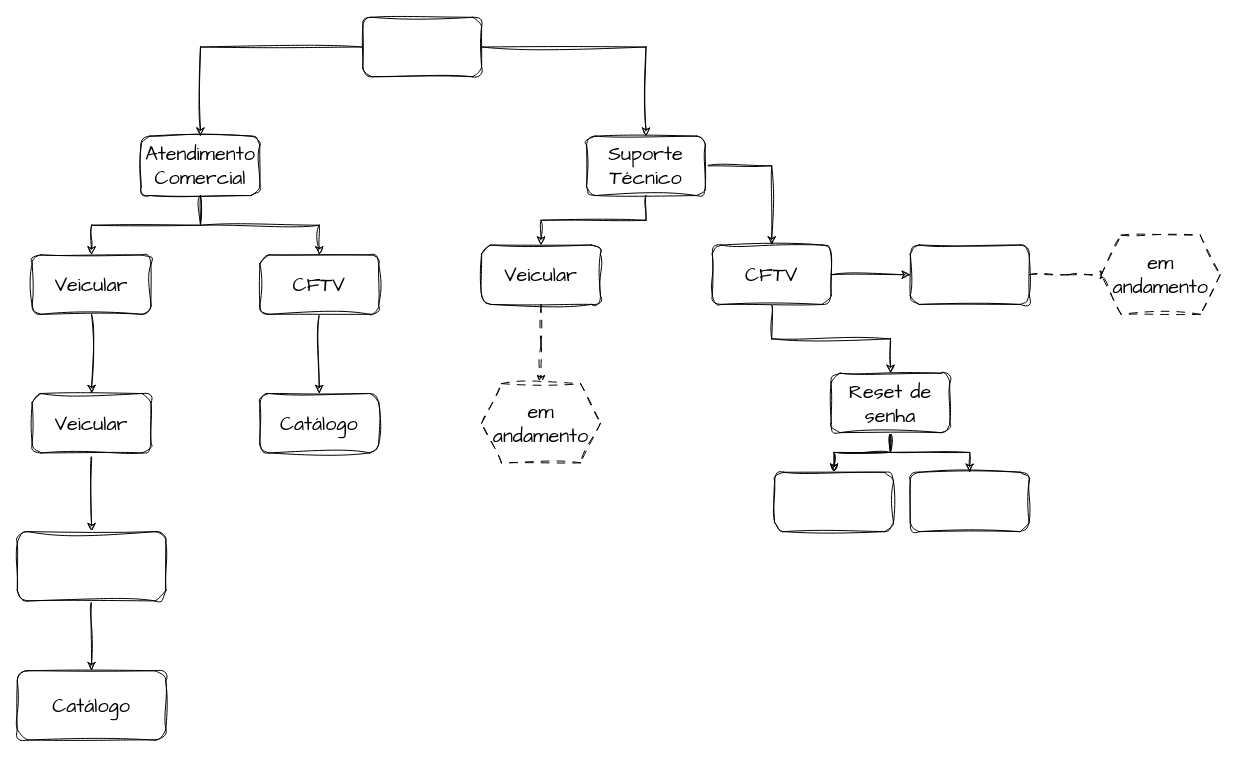
The diagram is 1238 pixels wide and 757 high, and some of its shapes have lost their labels. Here are the shapes that lost their labels. From the top down, the centre of each, then its label:
At (x=422, y=46): "Início".
At (x=969, y=274): "Dúvidas Gerais".
At (x=833, y=501): "Data".
At (x=969, y=501): "Código Key".
At (x=91, y=566): "Vídeo da solução veicualr".
